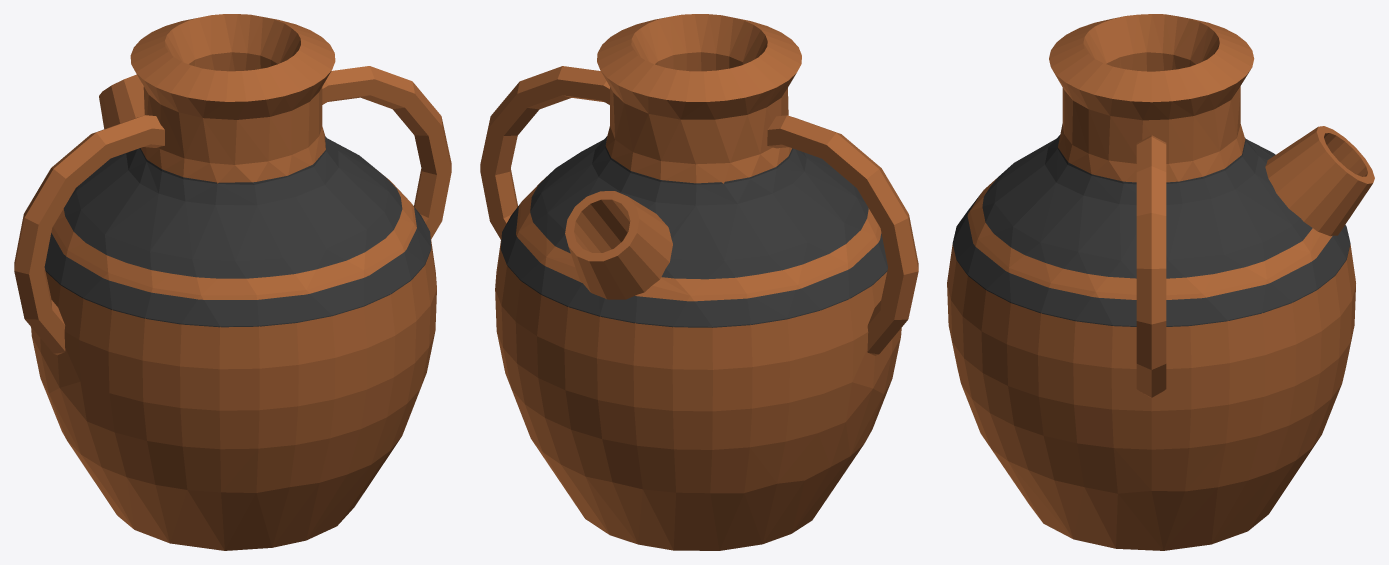
File: Pottery 13_3.fbx
3 views of the same model, side by side, from view 1: azimuth 30°, elevation 25°; view 2: azimuth 150°, elevation 25°; view 3: azimuth 270°, elevation 25° (orthographic).
Visible parts, largest first — view 1: Pottery 13_3; view 2: Pottery 13_3; view 3: Pottery 13_3.
Part boxes in pixels (left/top/right/bottom): Pottery 13_3: left=14, top=14, right=451, bottom=550; Pottery 13_3: left=480, top=14, right=918, bottom=550; Pottery 13_3: left=947, top=14, right=1374, bottom=550.
Size of the model in its own units: 65.52 by 65.33 by 55.48.
